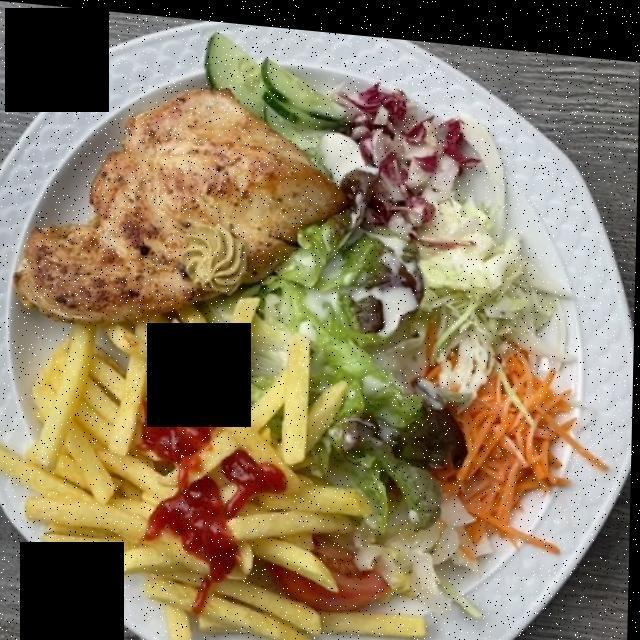butter: (167, 214, 250, 299)
carrot: (446, 343, 585, 533)
chicken-breast: (16, 89, 331, 319)
chips-french-fries: (2, 307, 426, 640)
cucumber: (210, 32, 346, 146)
ketchup: (143, 380, 281, 601)
salad: (259, 91, 549, 563), (355, 163, 418, 336)
